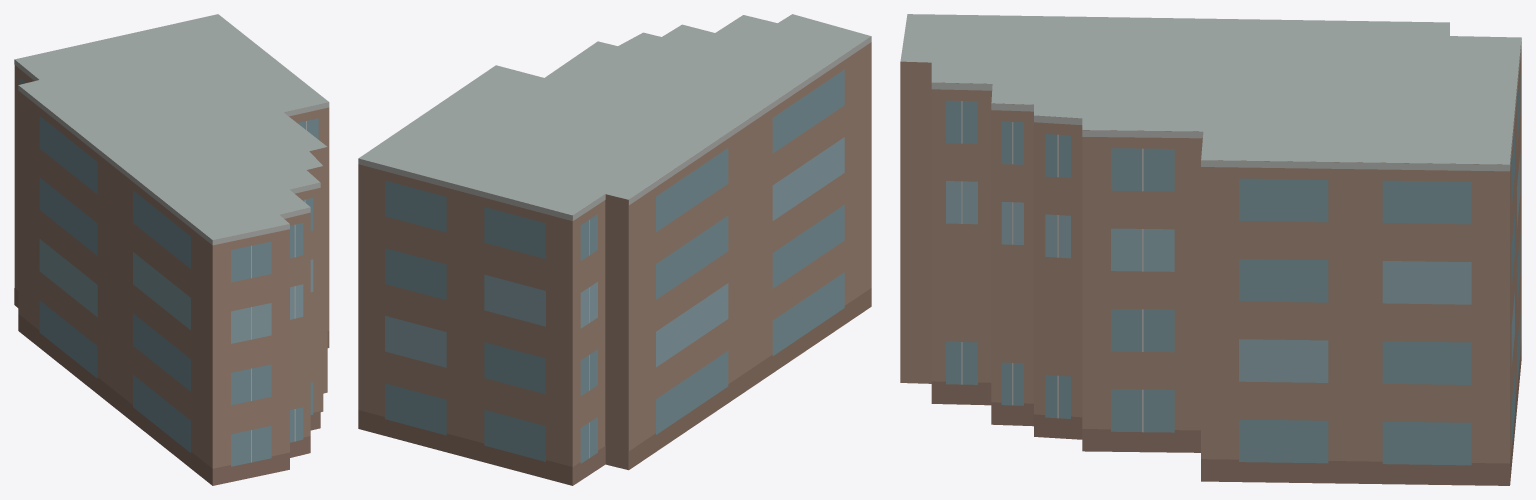
Rendered from survey-upis-32520661.glb.
3 views of the same model, side by side, from view 1: azimuth 30°, elevation 25°; view 2: azimuth 150°, elevation 25°; view 3: azimuth 270°, elevation 25° (orthographic). The views are drawn at different scales.
Parts seen in each view (by area): view 1: survey-upis-32520661.tmp; view 2: survey-upis-32520661.tmp; view 3: survey-upis-32520661.tmp.
Part boxes in pixels (left/top/right/bottom): survey-upis-32520661.tmp: left=14, top=14, right=329, bottom=485; survey-upis-32520661.tmp: left=358, top=14, right=871, bottom=485; survey-upis-32520661.tmp: left=900, top=14, right=1521, bottom=485.
Size of the model in its own units: 11.57 by 11.5 by 20.16.
